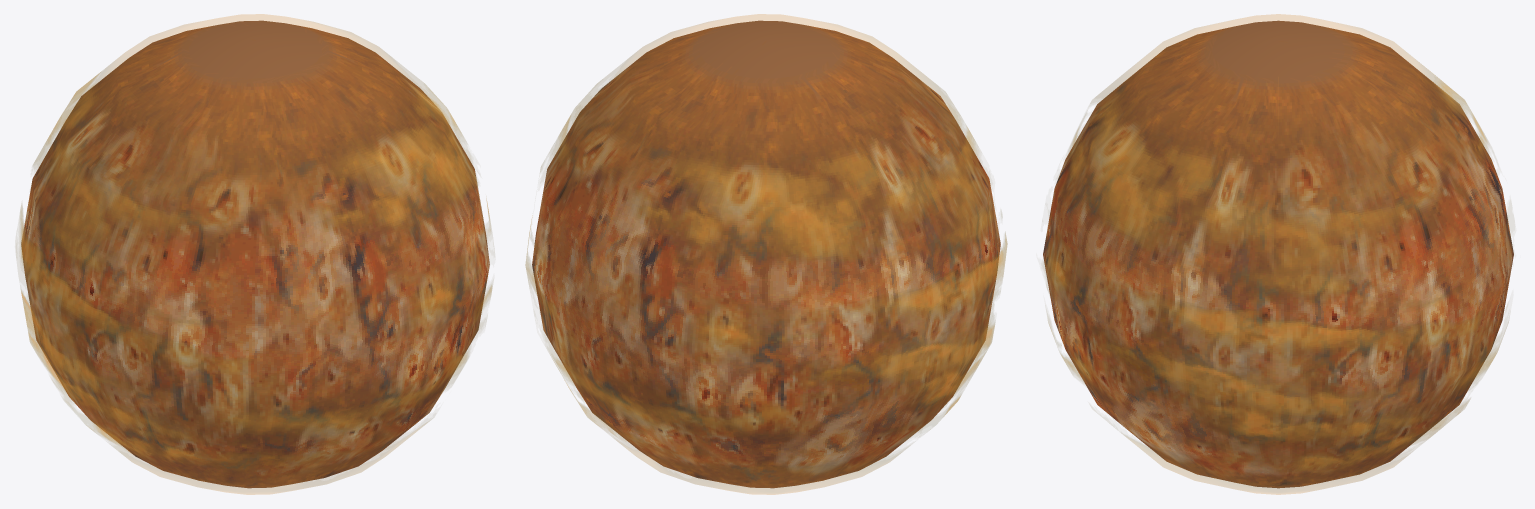
Rendered from pvolcanic_cmp.gltf.
3 renders of one model, left to right at view 1: azimuth 30°, elevation 25°; view 2: azimuth 150°, elevation 25°; view 3: azimuth 270°, elevation 25°, orthographic.
Visible parts, largest first — view 1: Root, clouds; view 2: Root, clouds; view 3: Root, clouds.
Boxes of the visible parts, x1,y1,x2,y2 form: Root: (21,20,489,488); clouds: (16,14,492,494); Root: (532,20,1000,488); clouds: (525,14,1007,494); Root: (1043,20,1513,488); clouds: (1042,14,1509,494).
Bounding box in the file's own units: 44.28 × 44.28 × 44.28.
Materials: 2 (2 with a texture image).
